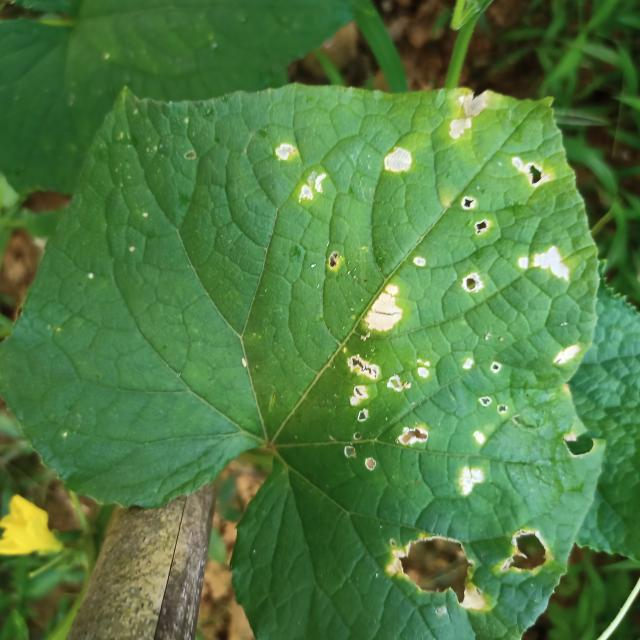disease_cucumber: (337, 346, 441, 477), (383, 525, 489, 618), (271, 140, 328, 205), (510, 243, 574, 288), (498, 524, 552, 577), (359, 277, 406, 333), (448, 88, 490, 141), (508, 154, 554, 190), (455, 194, 494, 236), (454, 456, 487, 502), (380, 143, 415, 176), (550, 339, 580, 366), (459, 266, 484, 295)
